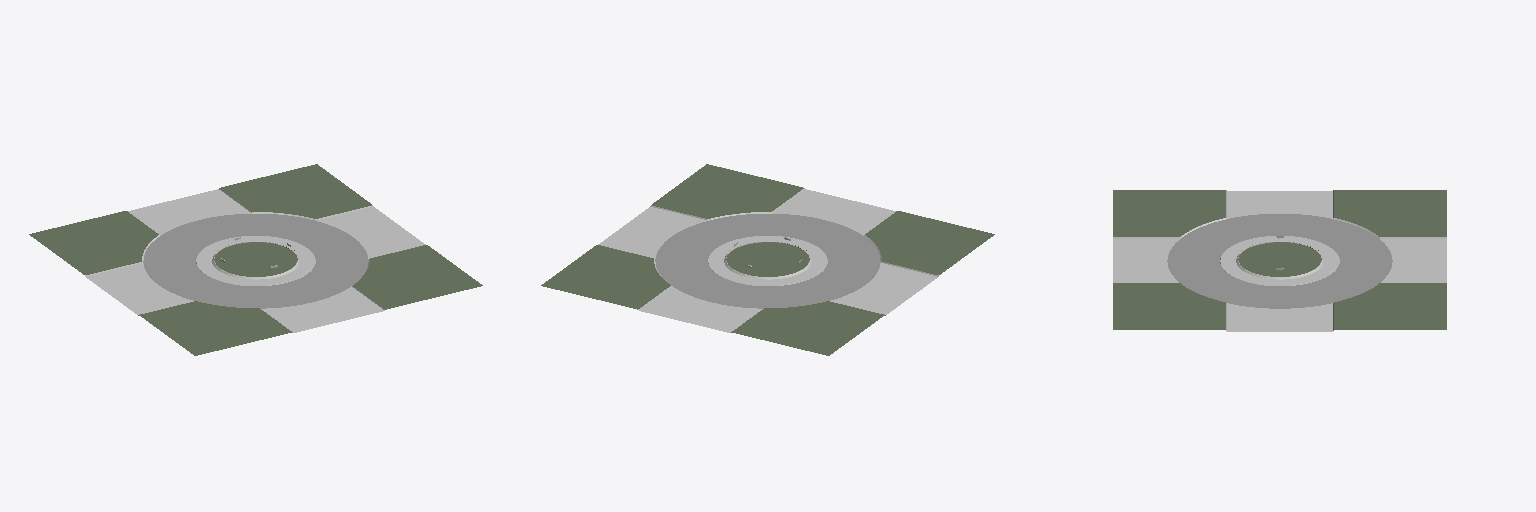
The model's file is roundabout.obj.
3 views of the same model, side by side, from view 1: azimuth 30°, elevation 25°; view 2: azimuth 150°, elevation 25°; view 3: azimuth 270°, elevation 25° (orthographic).
Visible parts, largest first — view 1: Circle_Circle.001; view 2: Circle_Circle.001; view 3: Circle_Circle.001.
Boxes of the visible parts, box(x1,y1,x2,y2) form: Circle_Circle.001: box(29, 164, 482, 355); Circle_Circle.001: box(541, 164, 994, 355); Circle_Circle.001: box(1113, 190, 1446, 331).
Size of the model in its own units: 40 by 1.36 by 40.